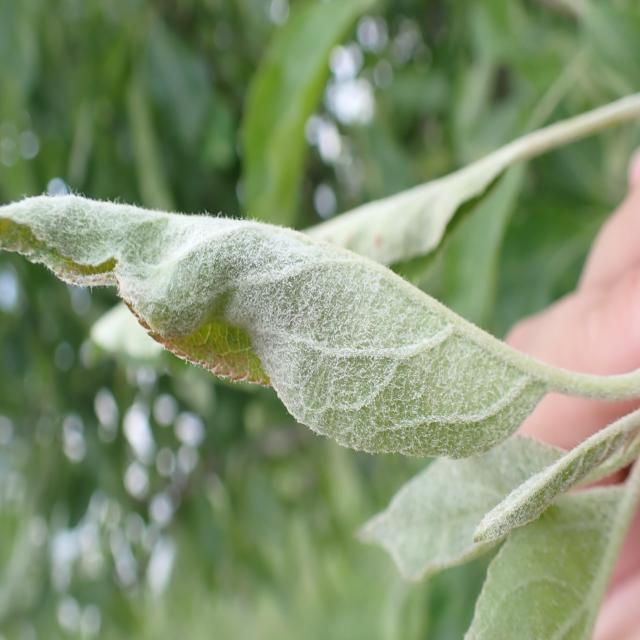Powdery_mildew: (0, 133, 597, 490), (255, 89, 639, 298), (339, 412, 640, 588), (464, 418, 640, 639)
